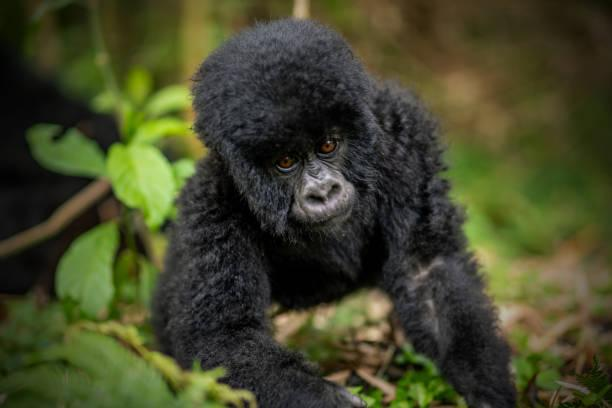goriile_montagne: (121, 15, 530, 405)
